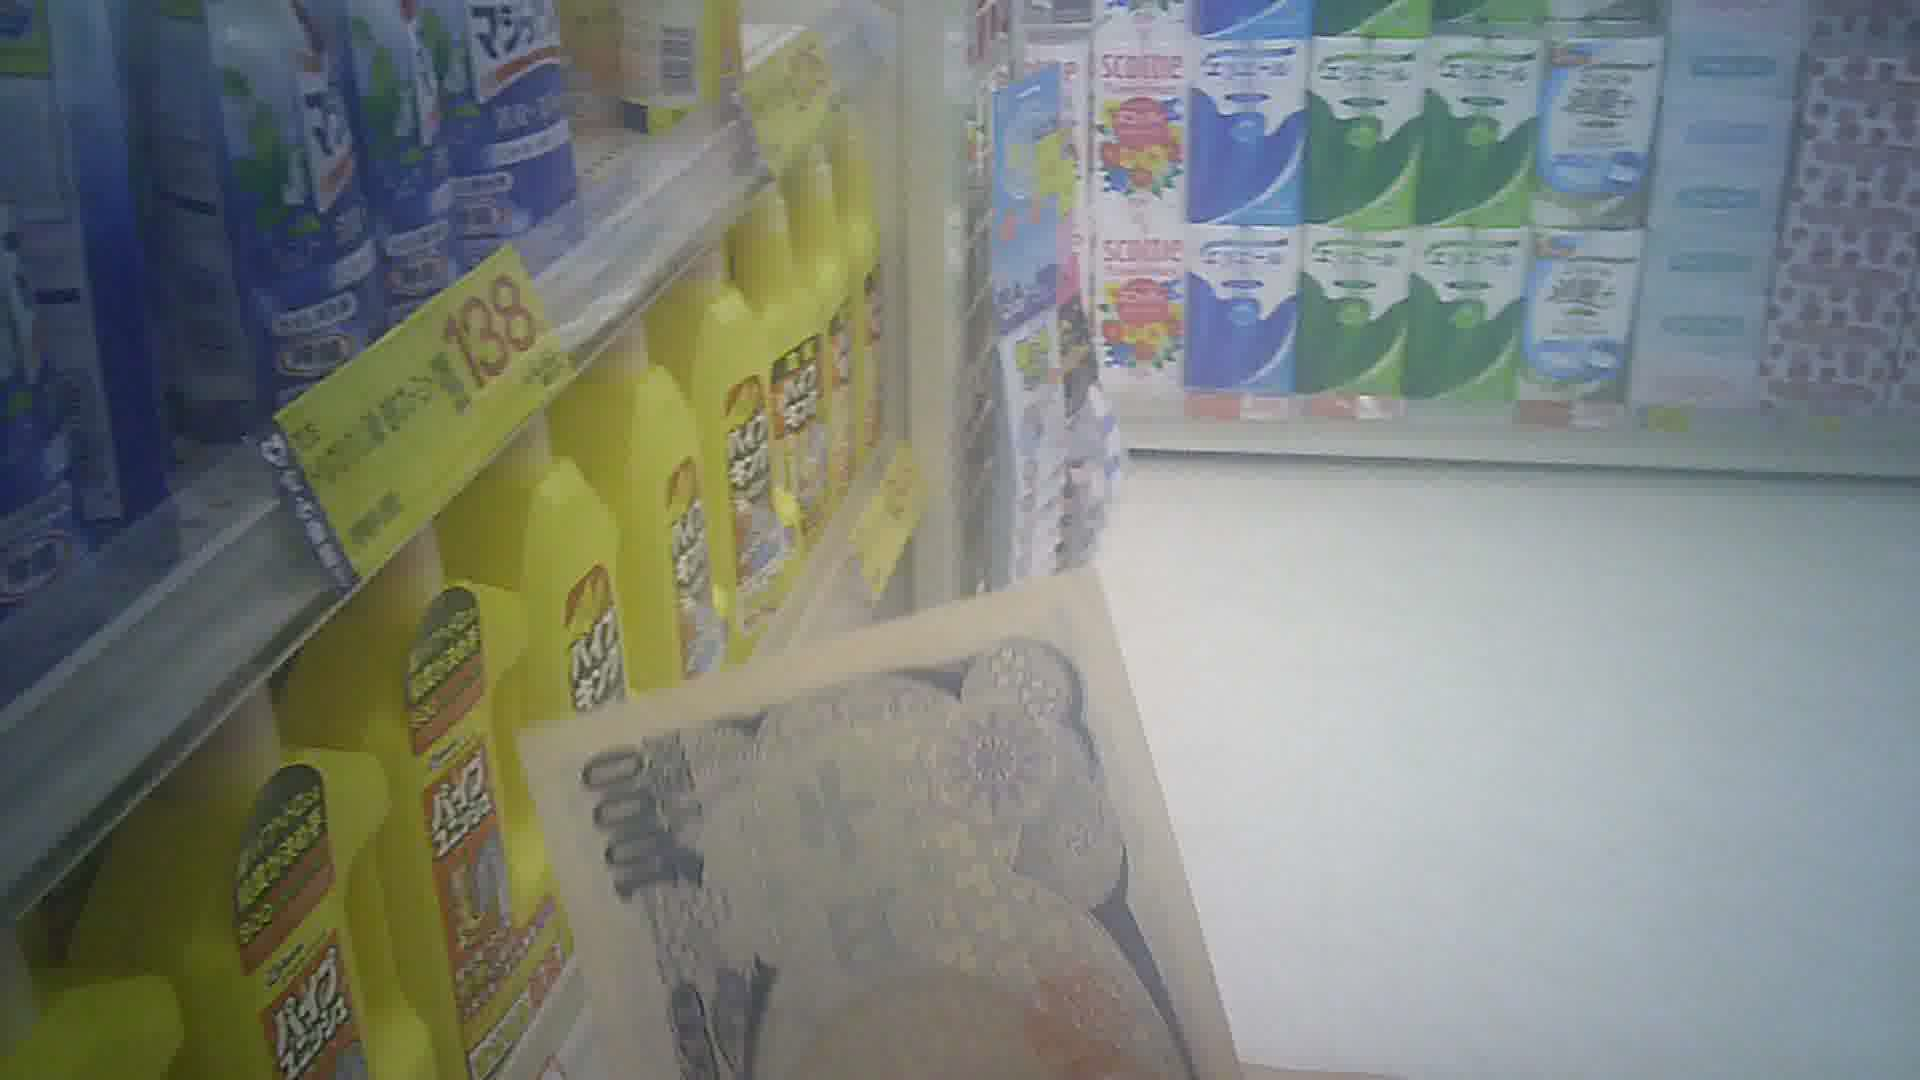1,000 Yen: (518, 585, 1261, 1079)
